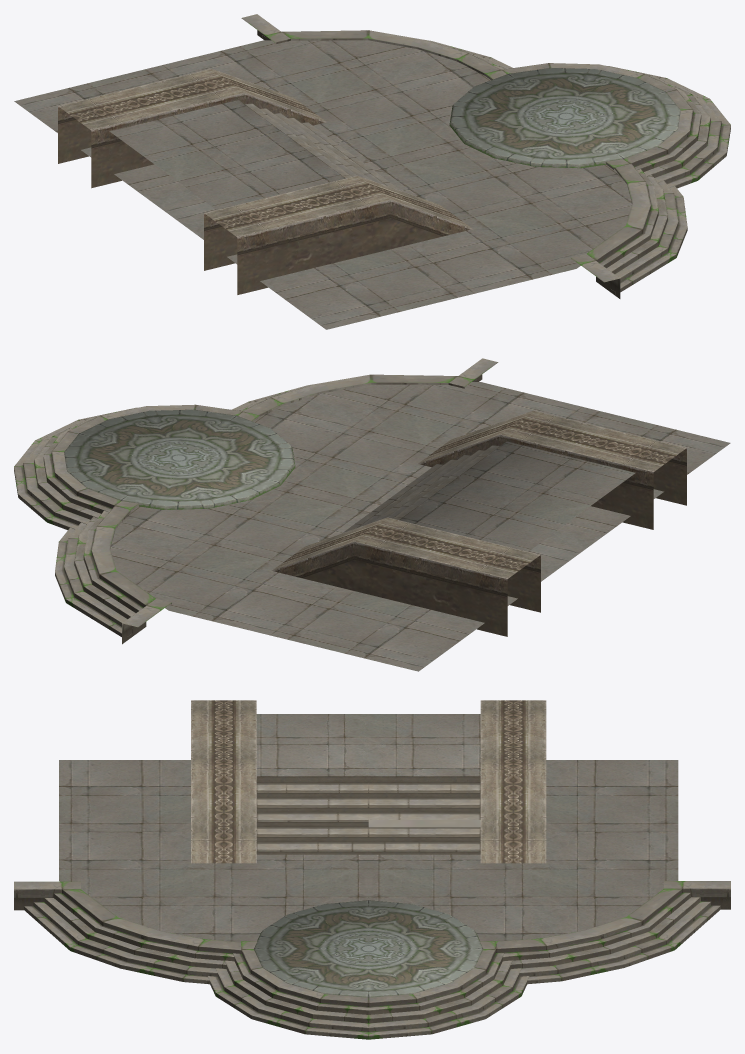
The model's file is dixing02_53_33_9565out.fbx.
3 renders of one model, top to bottom at view 1: azimuth 30°, elevation 25°; view 2: azimuth 150°, elevation 25°; view 3: azimuth 270°, elevation 25°, orthographic.
Visible parts, largest first — view 1: 0001_dixing02, 0002_dixing02, 0003_dixing02, 0004_dixing02, 0000_dixing02; view 2: 0001_dixing02, 0002_dixing02, 0003_dixing02, 0004_dixing02, 0000_dixing02; view 3: 0001_dixing02, 0004_dixing02, 0002_dixing02, 0000_dixing02, 0003_dixing02.
Boxes of the visible parts, x1=… form: 0001_dixing02: x1=14, y1=40, x2=631, y2=329; 0002_dixing02: x1=58, y1=68, x2=472, y2=294; 0003_dixing02: x1=449, y1=68, x2=680, y2=168; 0004_dixing02: x1=241, y1=14, x2=730, y2=298; 0000_dixing02: x1=245, y1=38, x2=632, y2=259; 0001_dixing02: x1=110, y1=382, x2=730, y2=671; 0002_dixing02: x1=272, y1=410, x2=686, y2=636; 0003_dixing02: x1=64, y1=409, x2=295, y2=509; 0004_dixing02: x1=14, y1=358, x2=498, y2=644; 0000_dixing02: x1=110, y1=382, x2=499, y2=604; 0001_dixing02: x1=59, y1=714, x2=678, y2=942; 0004_dixing02: x1=14, y1=881, x2=730, y2=1039; 0002_dixing02: x1=191, y1=700, x2=546, y2=863; 0000_dixing02: x1=256, y1=776, x2=480, y2=854; 0003_dixing02: x1=253, y1=900, x2=483, y2=997.
Size of the model in its own units: 18.27 by 2.16 by 20.35.
